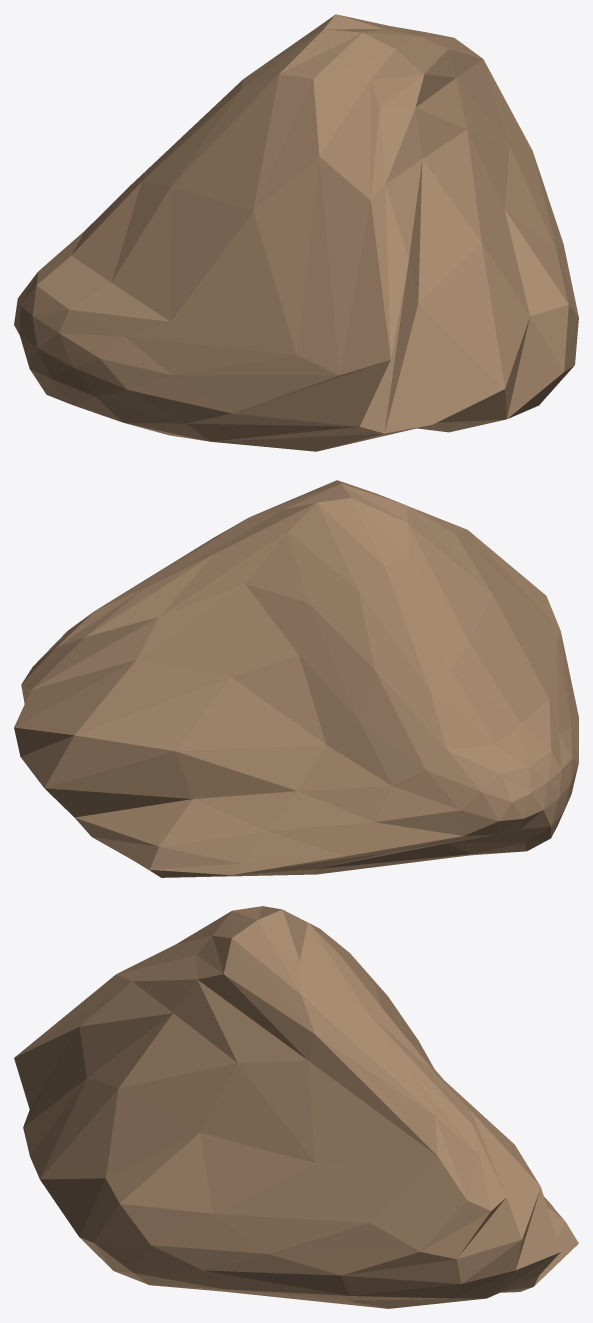
Rendered from Rock.fbx.
3 renders of one model, top to bottom at view 1: azimuth 30°, elevation 25°; view 2: azimuth 150°, elevation 25°; view 3: azimuth 270°, elevation 25°, orthographic. The views are drawn at different scales.
Visible parts, largest first — view 1: Icosphere; view 2: Icosphere; view 3: Icosphere.
Part boxes in pixels (left/top/right/bottom): Icosphere: left=14, top=14, right=578, bottom=451; Icosphere: left=14, top=480, right=578, bottom=877; Icosphere: left=14, top=906, right=578, bottom=1308.
Size of the model in its own units: 600 by 376 by 589.
